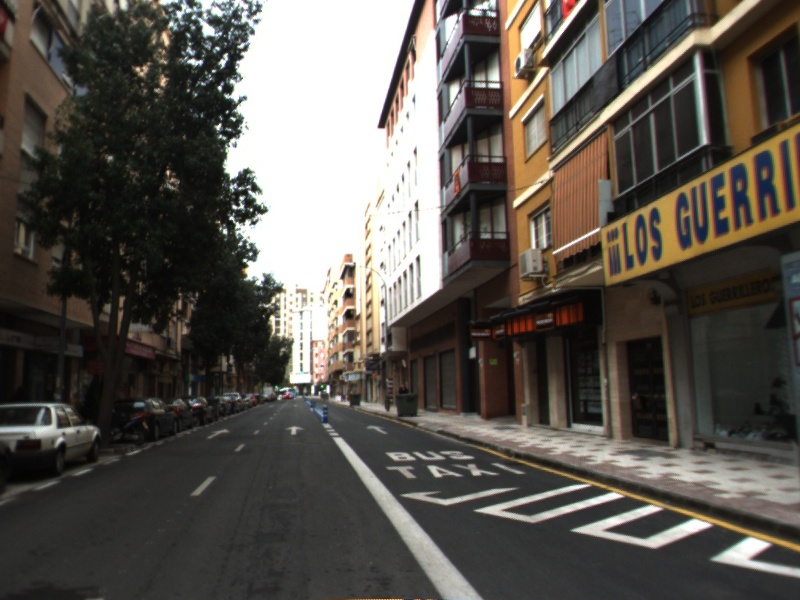STRAIGHT: (205, 426, 232, 441), (282, 423, 307, 437), (364, 423, 390, 436)
